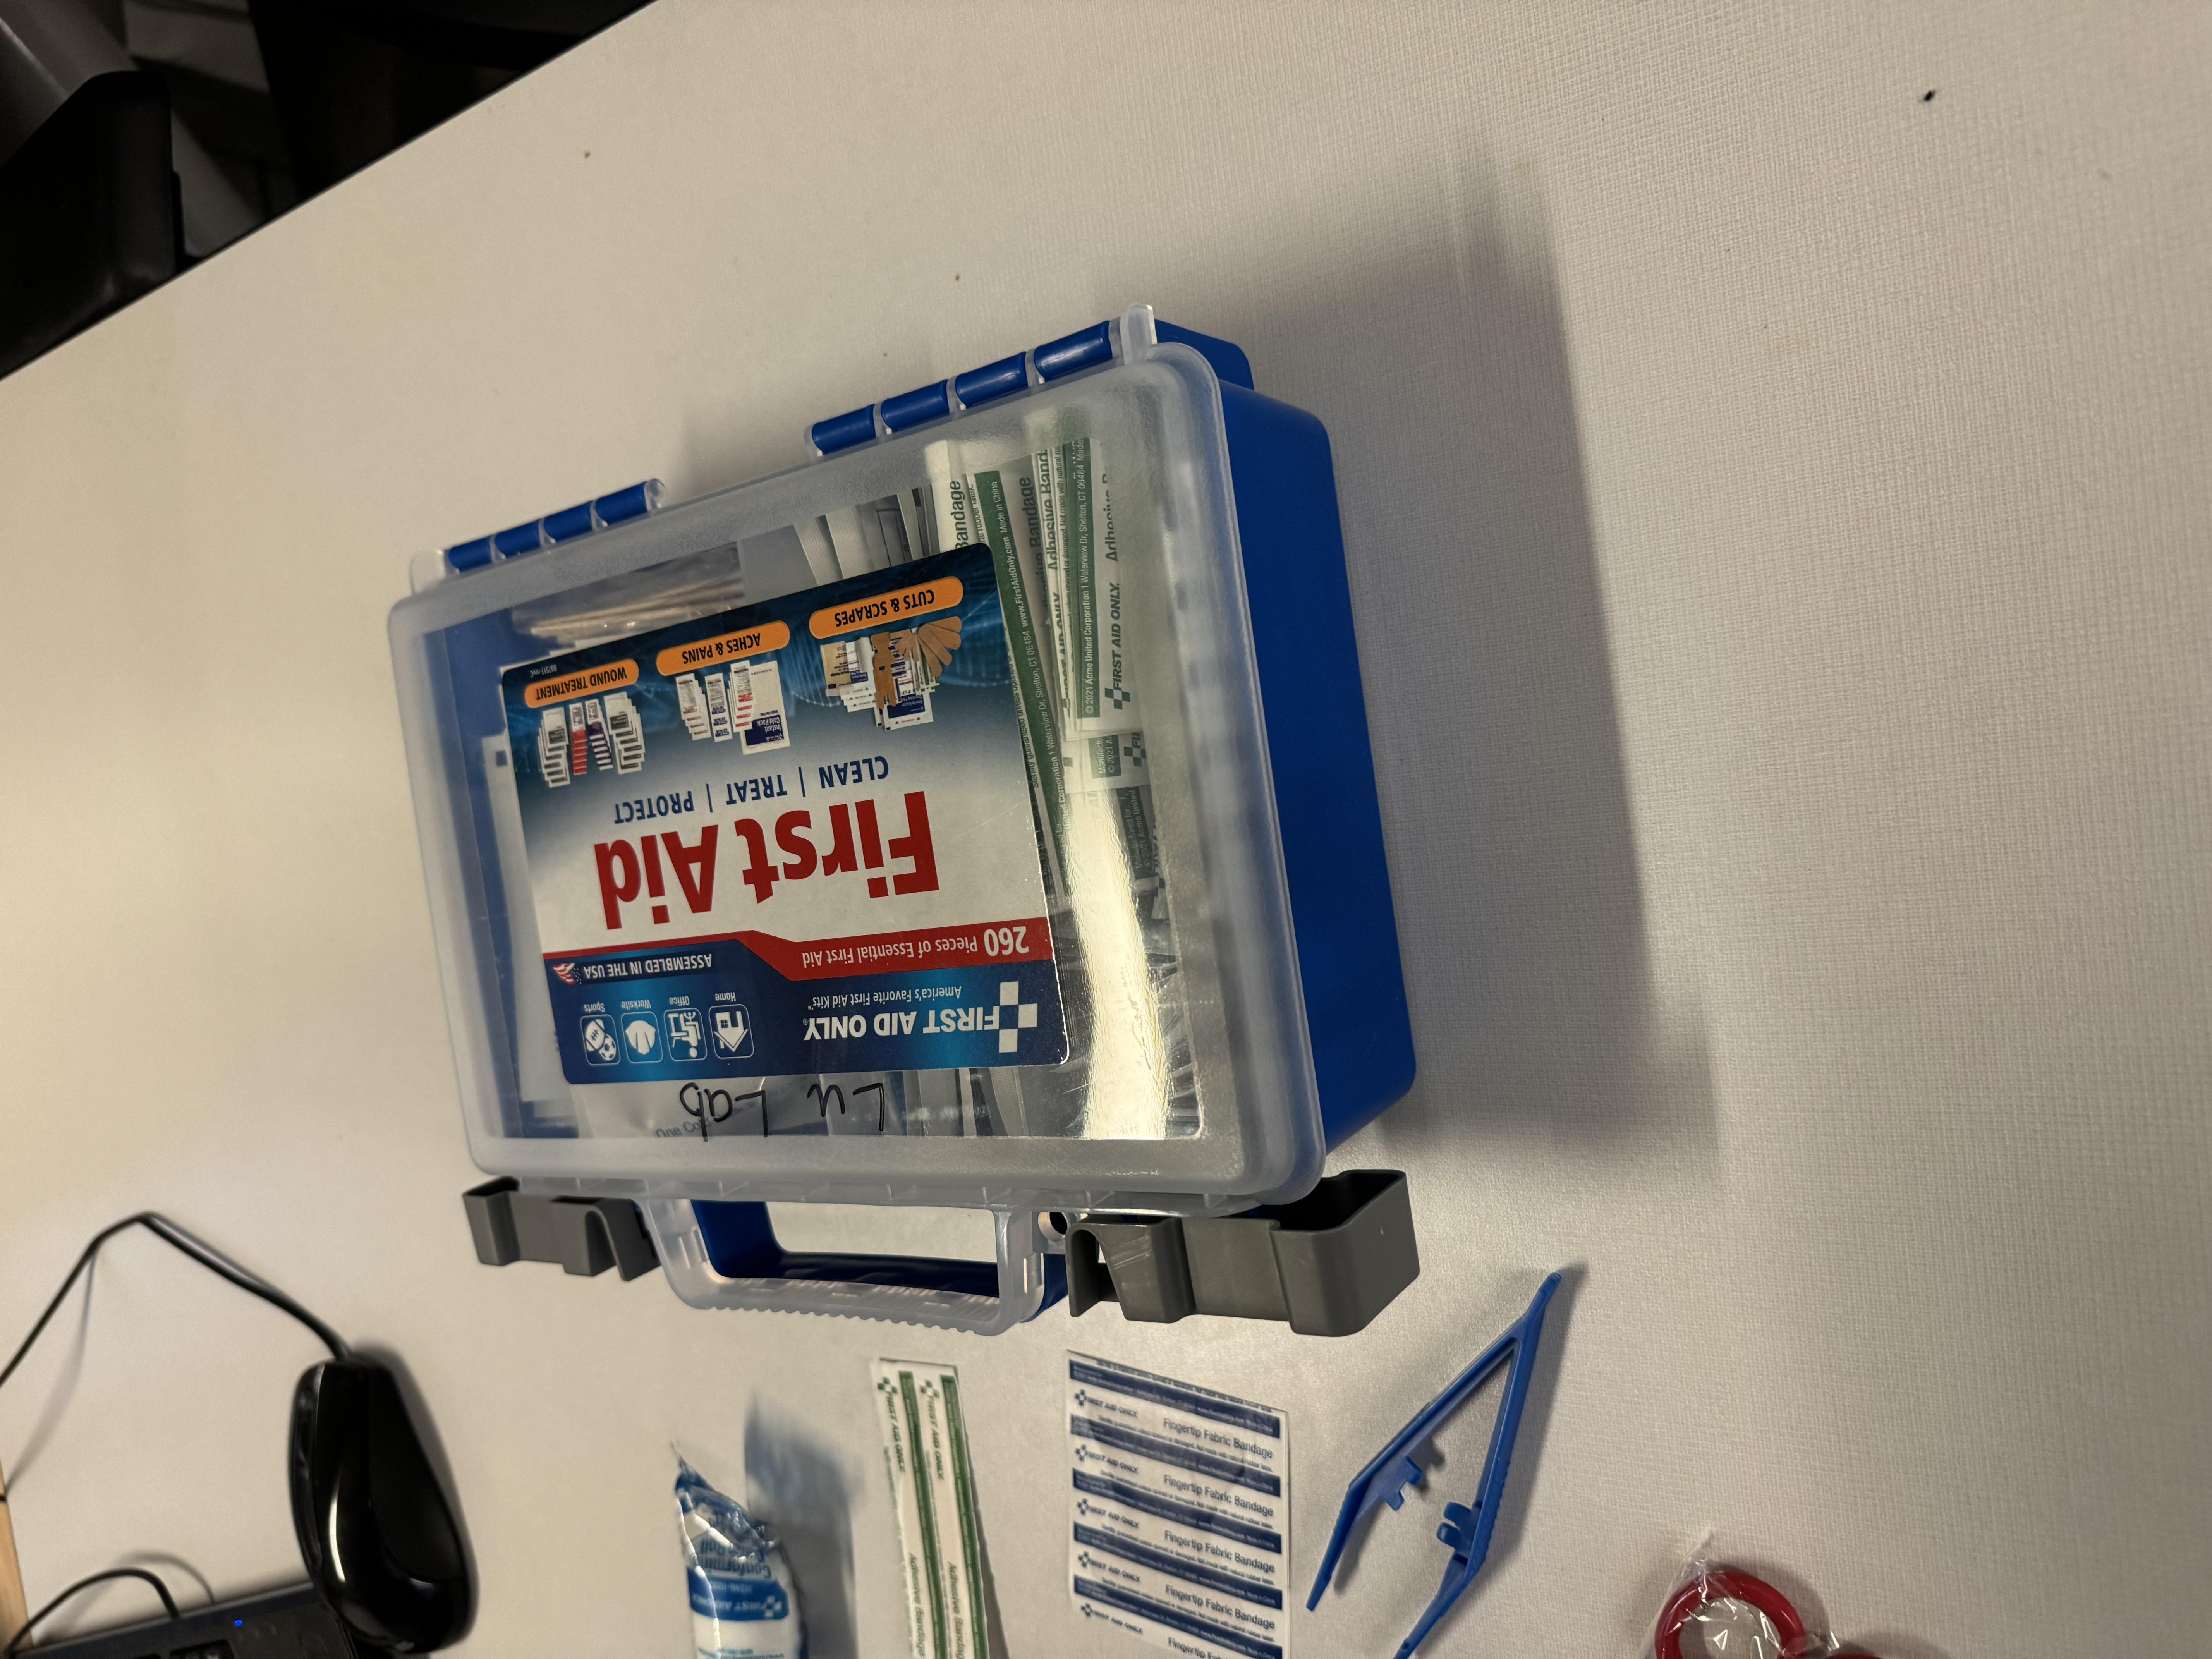bandage: (16, 781, 395, 979), (10, 666, 423, 749)
first aid kit: (402, 308, 1858, 1101)
gauze: (0, 484, 312, 638)
tweezers: (0, 965, 590, 1225)
